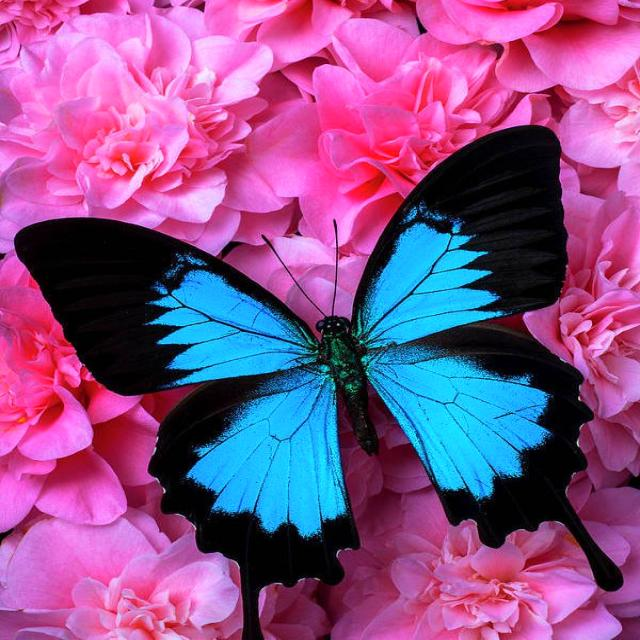butterfly: (15, 125, 620, 639)
